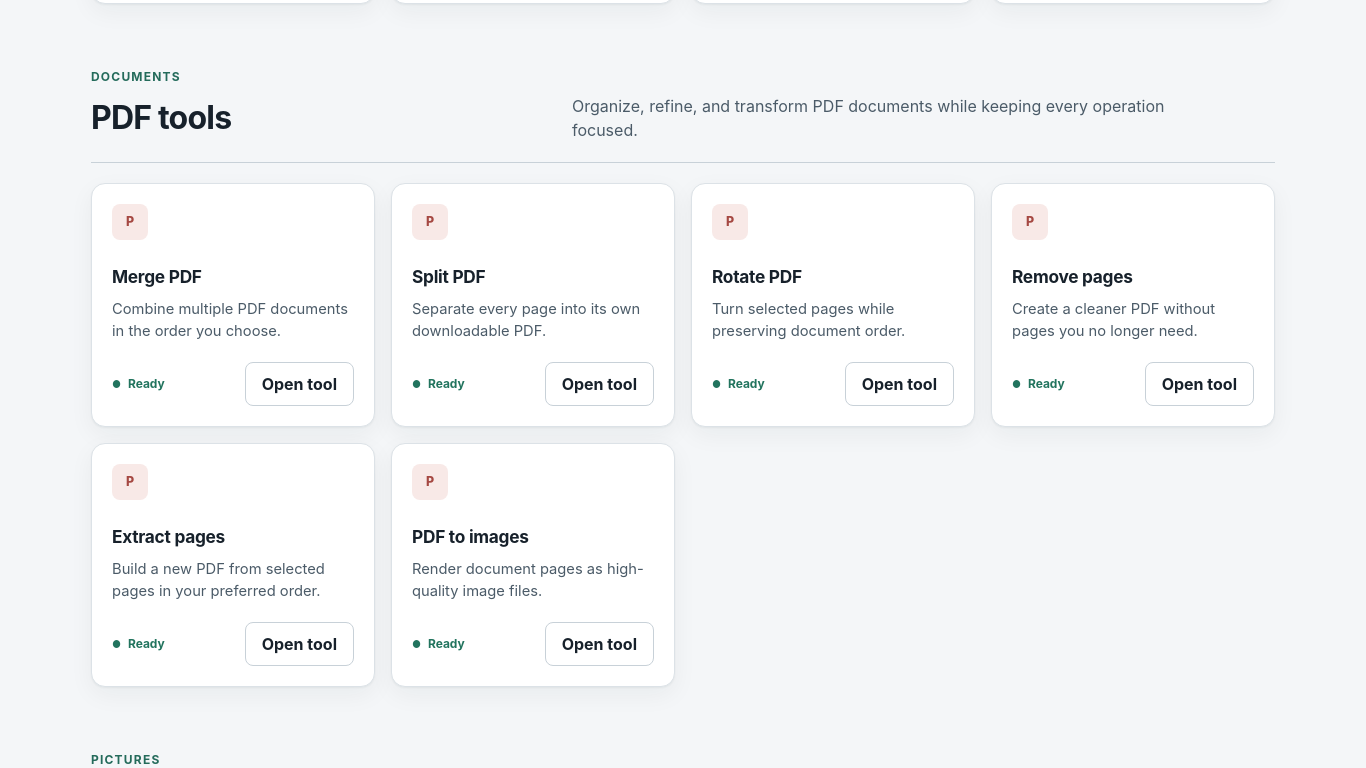
Test: DocuForge application shell › opens the operational Split PDF card
(page scrolled)
Click the button "Open tool" below "Split PDF": x=599, y=384 [545,362,654,406]
(page scrolled)
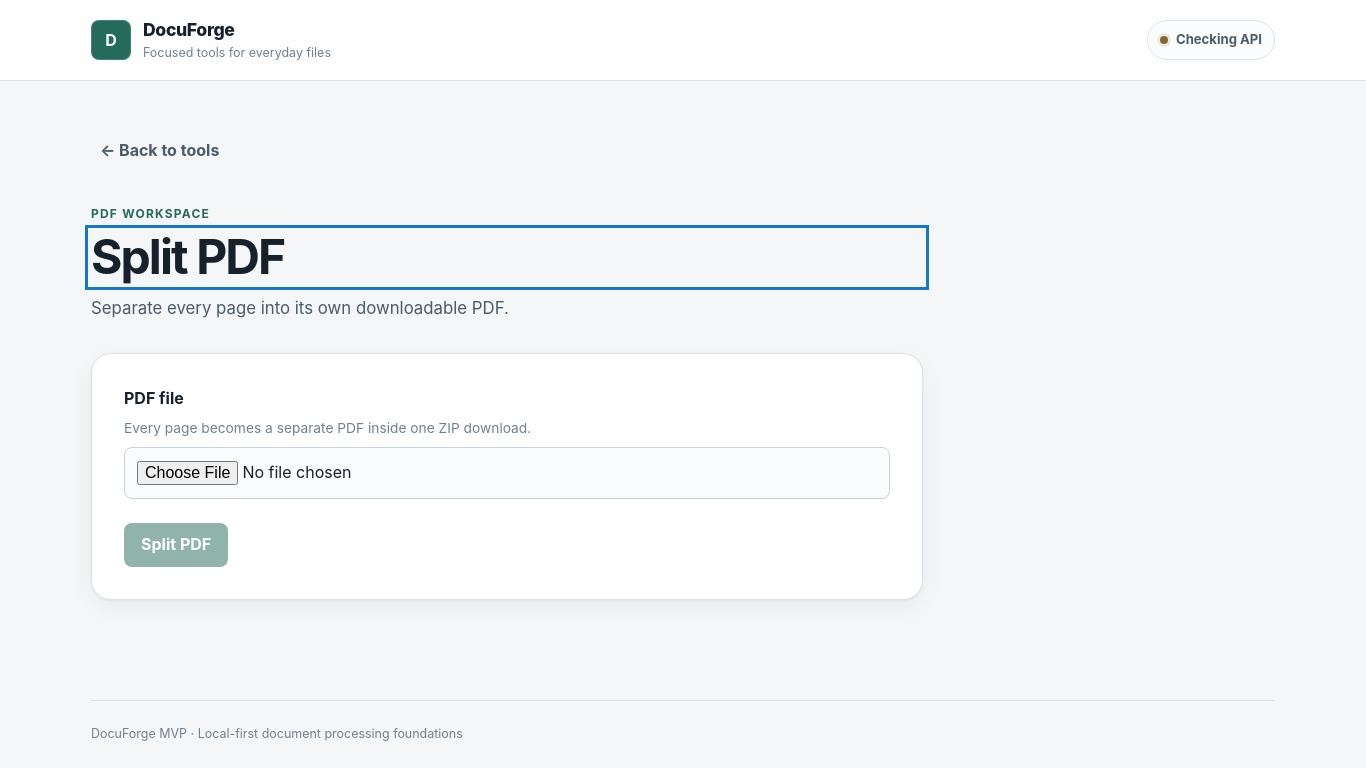
Result: the heading "Split PDF" is shown at [91,227,284,286]
Result: the form is shown at [124,386,890,567]
